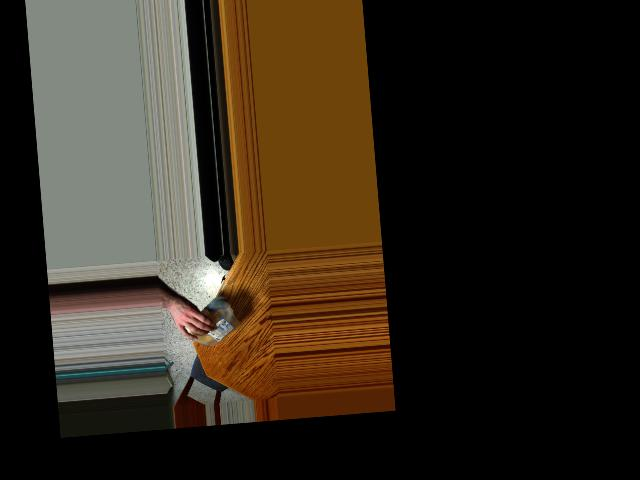cheese: (180, 301, 243, 351)
